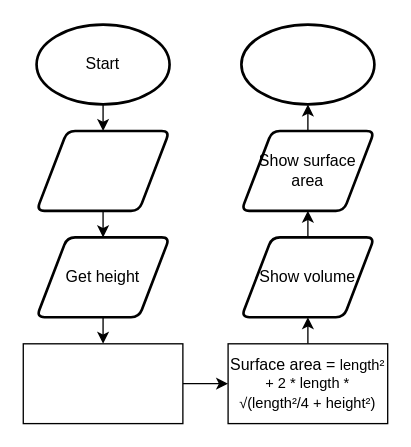
Image size: 411x447. Some labels were removed from this diagram. Here are the shapes that lost their labels. From the top down, the box of each, then its label:
(239, 23, 375, 105): Stop
(35, 129, 170, 211): Get lenght
(22, 342, 183, 424): Volume = 1/3 * length * height
